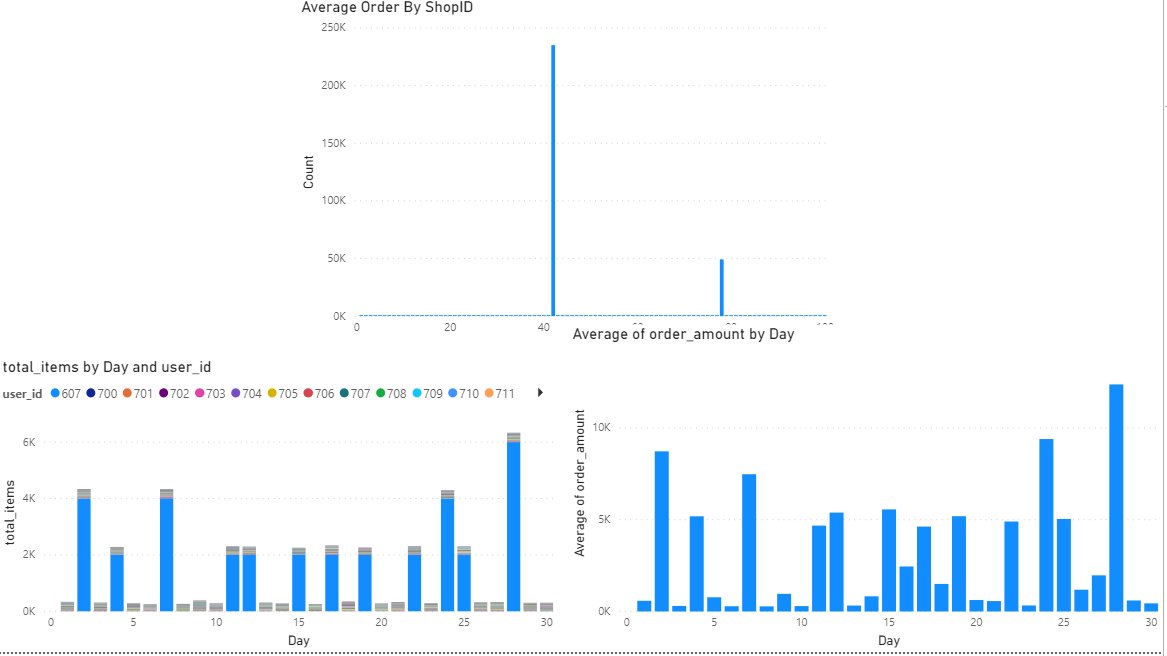

This screenshot's page, from the dashboard's own definition file:
{"tool":"powerbi","page":{"name":"Avg Order Graphs","canvas":[1280,720],"ordinal":2},"visuals":[{"type":"columnChart","title":"Average Order By ShopID","fields":{"Category":["Average Order by Shop ID.shop_id"],"Y":["Sum(Average Order by Shop ID.Count)"]},"box":[328.2,0,596.1,395.5],"z":0},{"type":"columnChart","fields":{"Y":["Avg(Sheet1.order_amount)"],"Category":["Sheet1.created_at.Variation.Date Hierarchy.Day"]},"box":[626.3,359.8,653.7,359.8],"z":1000},{"type":"columnChart","fields":{"Category":["Sheet1.created_at.Variation.Date Hierarchy.Day"],"Y":["Sum(Sheet1.total_items)"],"Series":["Sheet1.user_id"]},"box":[0,395.5,615.3,324.1],"z":2000}]}

Visuals, with their boxes in screenshot pixels (x1, y1, x2, y2), scaled from the page's 1280x720 canvas onto the 1167x656 screenshot:
"Average Order By ShopID" columnChart: locate(299, 0, 843, 360)
columnChart - Avg(Sheet1.order_amount) x Sheet1.created_at.Variation.Date Hierarchy.Day: locate(571, 328, 1166, 655)
columnChart - Sheet1.created_at.Variation.Date Hierarchy.Day x Sum(Sheet1.total_items): locate(0, 360, 561, 655)
